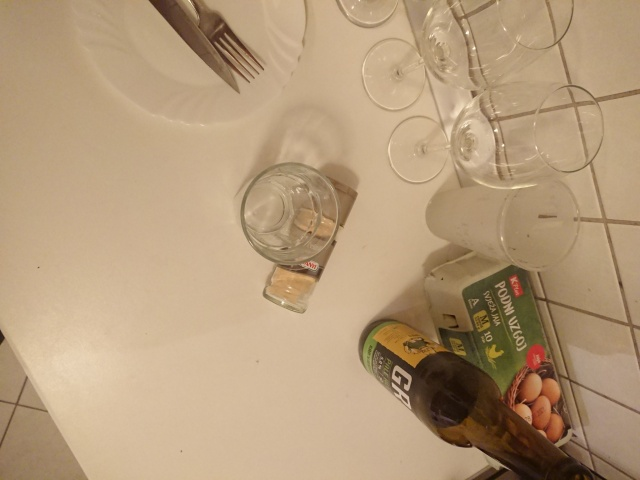Kotanyi Garlic Granules 70g: (260, 172, 361, 317)
